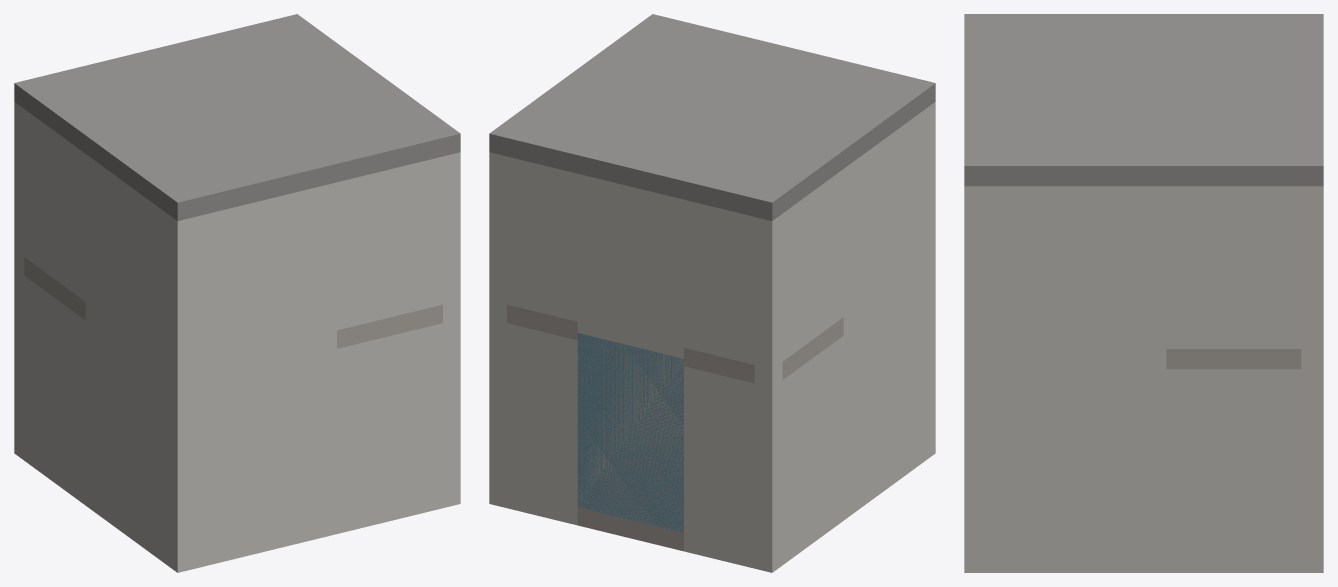
The model's file is canal-end.glb.
3 renders of one model, left to right at view 1: azimuth 30°, elevation 25°; view 2: azimuth 150°, elevation 25°; view 3: azimuth 270°, elevation 25°, orthographic. The views are drawn at different scales.
Visible parts, largest first — view 1: ceiling_1, wall_5, wall_3, wall_16, wall_14, wall_7, plug_south, wall_8, plug_west, wall_11, wall_20, wall_4 (+7 smaller); view 2: ceiling_1, plug_canal_north, wall_3, water_1, wall_14, wall_6, wall_7, plug_canal_north.001, wall_8, plug_west, wall_1, wall_17 (+8 smaller); view 3: ceiling_1, wall_4, wall_15, wall_9, plug_east, wall_19, wall_2, wall_13, floor_5.
Boxes of the visible parts, x1,y1,x2,y2 form: ceiling_1: (14, 14, 460, 220); wall_5: (195, 330, 336, 568); wall_3: (85, 302, 195, 572); wall_16: (195, 182, 336, 364); wall_14: (85, 154, 195, 369); wall_7: (372, 323, 442, 525); plug_south: (337, 193, 442, 330); wall_8: (24, 276, 85, 505); plug_west: (24, 146, 85, 301); wall_11: (337, 340, 372, 533); wall_20: (337, 156, 442, 219); wall_4: (443, 300, 460, 507); ceiling_1: (489, 14, 935, 220); plug_canal_north: (507, 175, 754, 364); wall_3: (843, 250, 935, 520); water_1: (577, 333, 683, 532); wall_14: (843, 102, 935, 316); wall_6: (684, 366, 754, 568); wall_7: (507, 323, 577, 525); plug_canal_north.001: (577, 322, 683, 531); wall_8: (782, 336, 843, 564); plug_west: (782, 206, 843, 361); wall_1: (754, 362, 782, 572); wall_17: (507, 156, 754, 235); ceiling_1: (964, 14, 1323, 186); wall_4: (964, 349, 1166, 572); wall_15: (964, 186, 1166, 348); wall_9: (1166, 369, 1301, 572); plug_east: (1166, 227, 1301, 348); wall_19: (1166, 186, 1301, 226); wall_2: (1301, 349, 1323, 572); wall_13: (1301, 186, 1323, 348); floor_5: (1166, 349, 1301, 369).
Size of the model in its own units: 8 by 10 by 8.
